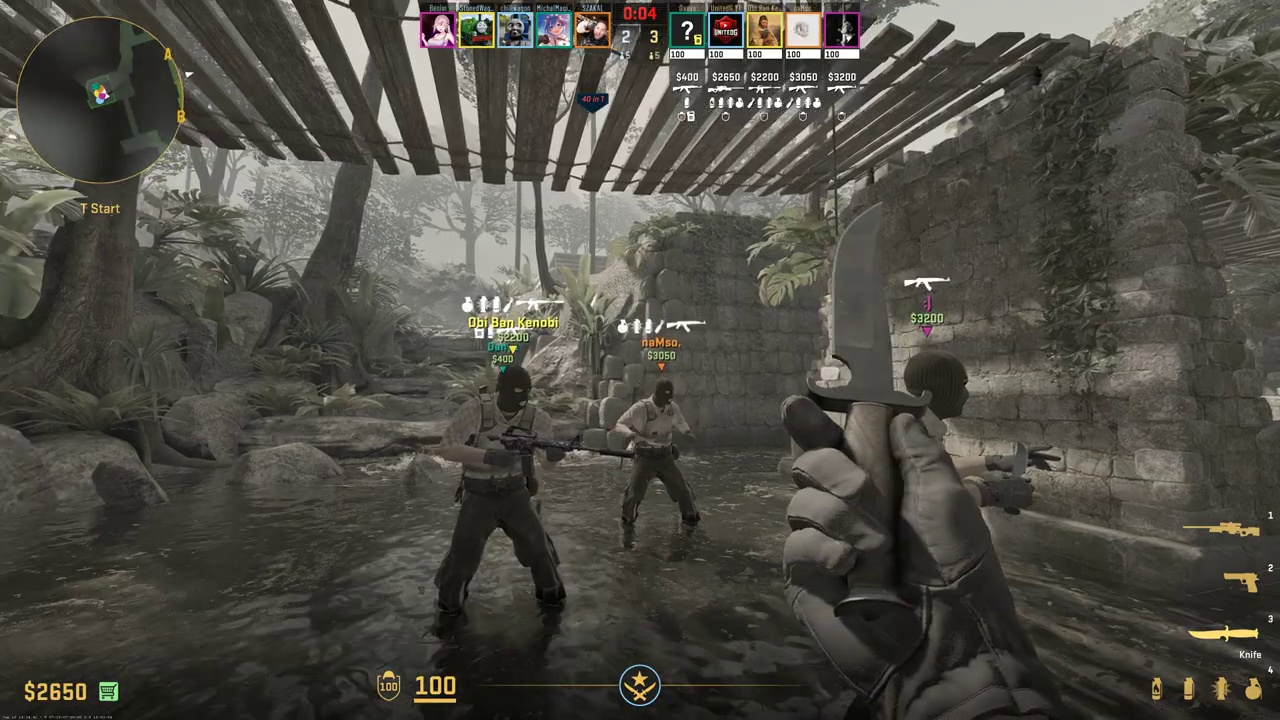Terrorist: (878, 356, 1011, 720), (444, 362, 571, 623), (622, 378, 701, 543)
